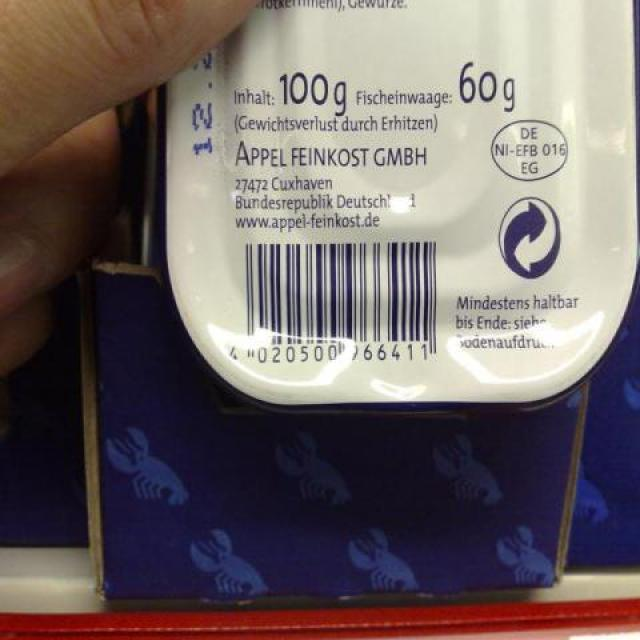Barcode: (224, 233, 452, 372)
